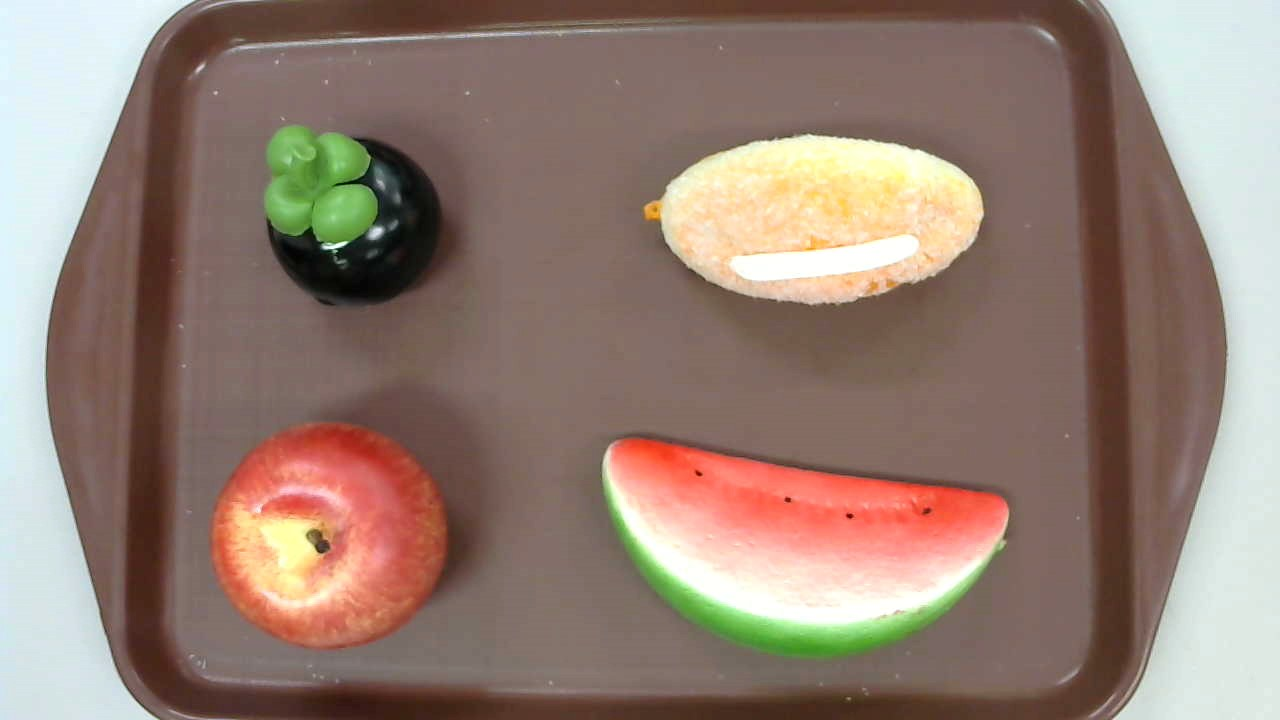coconut: (643, 133, 985, 304)
mangosteen: (263, 122, 445, 310)
red apple: (210, 421, 447, 652)
water melon: (602, 434, 1010, 662)
